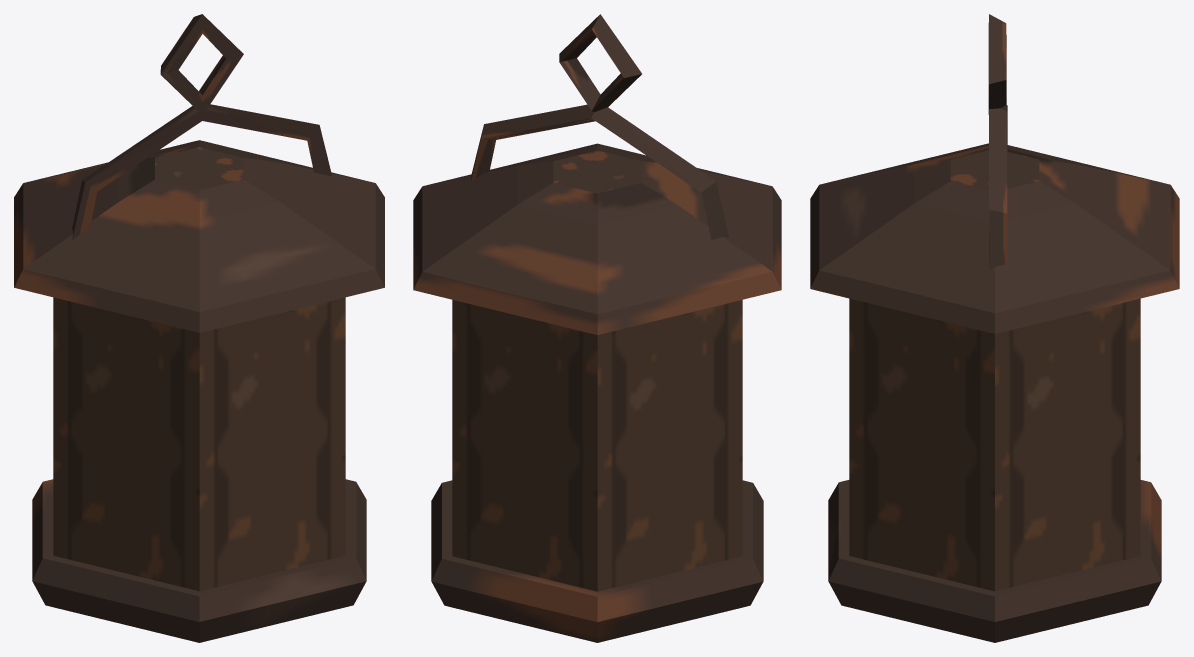
Rendered from SM_PR01_LanternHanging.fbx.
3 renders of one model, left to right at view 1: azimuth 30°, elevation 25°; view 2: azimuth 150°, elevation 25°; view 3: azimuth 270°, elevation 25°, orthographic.
Visible parts, largest first — view 1: PR01_Lantern, PR01_Frame; view 2: PR01_Lantern, PR01_Frame; view 3: PR01_Lantern, PR01_Frame.
Boxes of the visible parts, left/top/right/bottom form: PR01_Lantern: left=14, top=14, right=384, bottom=642; PR01_Frame: left=53, top=297, right=345, bottom=591; PR01_Lantern: left=413, top=14, right=781, bottom=642; PR01_Frame: left=452, top=300, right=742, bottom=591; PR01_Lantern: left=810, top=14, right=1179, bottom=642; PR01_Frame: left=849, top=298, right=1140, bottom=591.
Size of the model in its own units: 0.284 by 0.4068 by 0.246.
